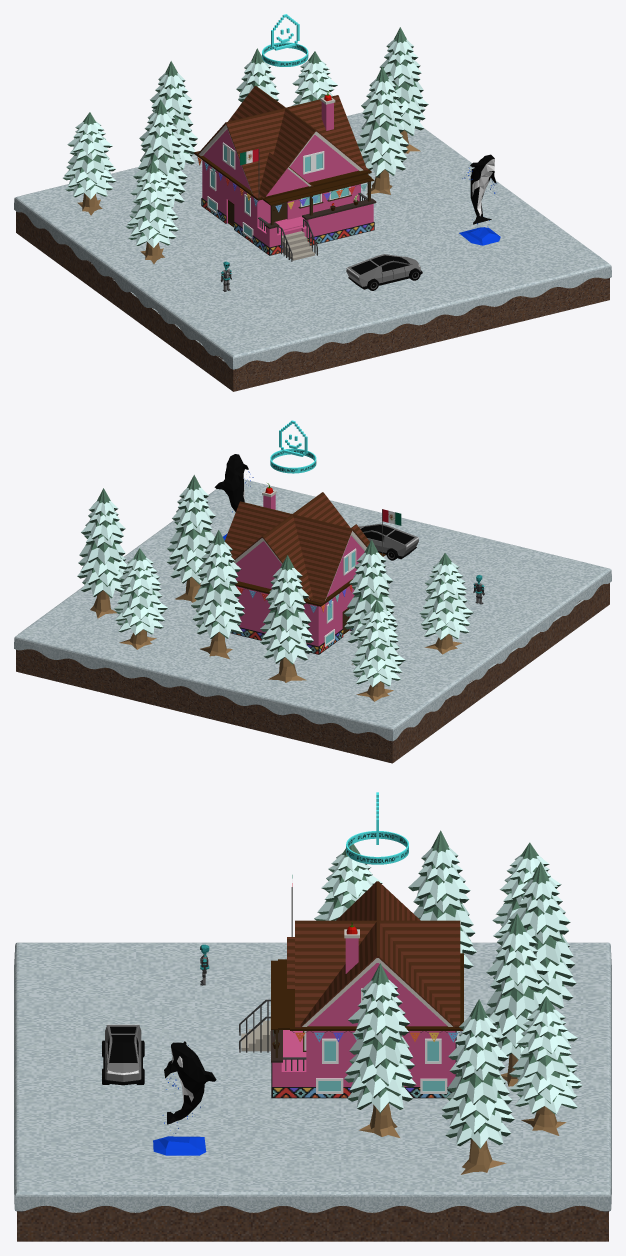
3 renders of one model, top to bottom at view 1: azimuth 30°, elevation 25°; view 2: azimuth 150°, elevation 25°; view 3: azimuth 270°, elevation 25°, orthographic. The views are drawn at different scales.
Parts seen in each view (by area): view 1: Cube.003, Cube.1005, VEHICLES_CYBERTRUCK, ANIMAL_ORCA, TYPE_PREMIUM; view 2: Cube.003, Cube.1005, VEHICLES_CYBERTRUCK, ANIMAL_ORCA, TYPE_PREMIUM; view 3: Cube.003, Cube.1005, ANIMAL_ORCA, VEHICLES_CYBERTRUCK, TYPE_PREMIUM.
Part boxes in pixels (left/top/right/bottom): Cube.003: left=14, top=27, right=611, bottom=391; Cube.1005: left=194, top=85, right=376, bottom=261; VEHICLES_CYBERTRUCK: left=346, top=254, right=422, bottom=290; ANIMAL_ORCA: left=459, top=154, right=500, bottom=245; TYPE_PREMIUM: left=262, top=14, right=308, bottom=66; Cube.003: left=14, top=475, right=611, bottom=763; Cube.1005: left=225, top=483, right=401, bottom=654; VEHICLES_CYBERTRUCK: left=358, top=523, right=418, bottom=560; ANIMAL_ORCA: left=214, top=454, right=253, bottom=540; TYPE_PREMIUM: left=270, top=420, right=316, bottom=473; Cube.003: left=14, top=830, right=611, bottom=1241; Cube.1005: left=239, top=875, right=463, bottom=1098; ANIMAL_ORCA: left=153, top=1041, right=216, bottom=1155; VEHICLES_CYBERTRUCK: left=102, top=1024, right=144, bottom=1085; TYPE_PREMIUM: left=346, top=792, right=408, bottom=864.
Bounding box in the file's own units: 4040 × 2490 × 4040.
Materials: 67 (7 with a texture image).
